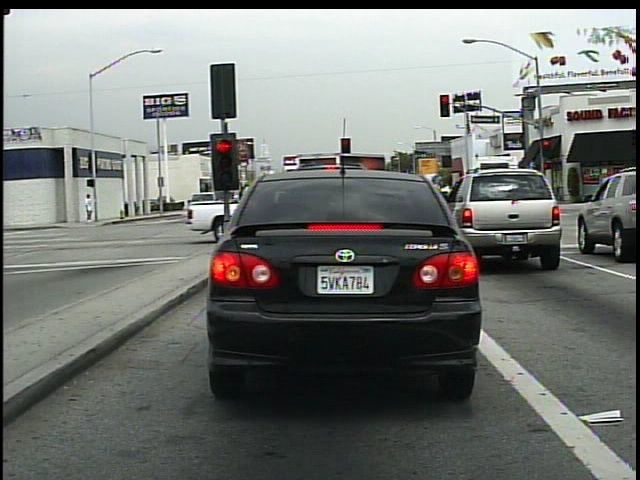person: (83, 192, 97, 225)
